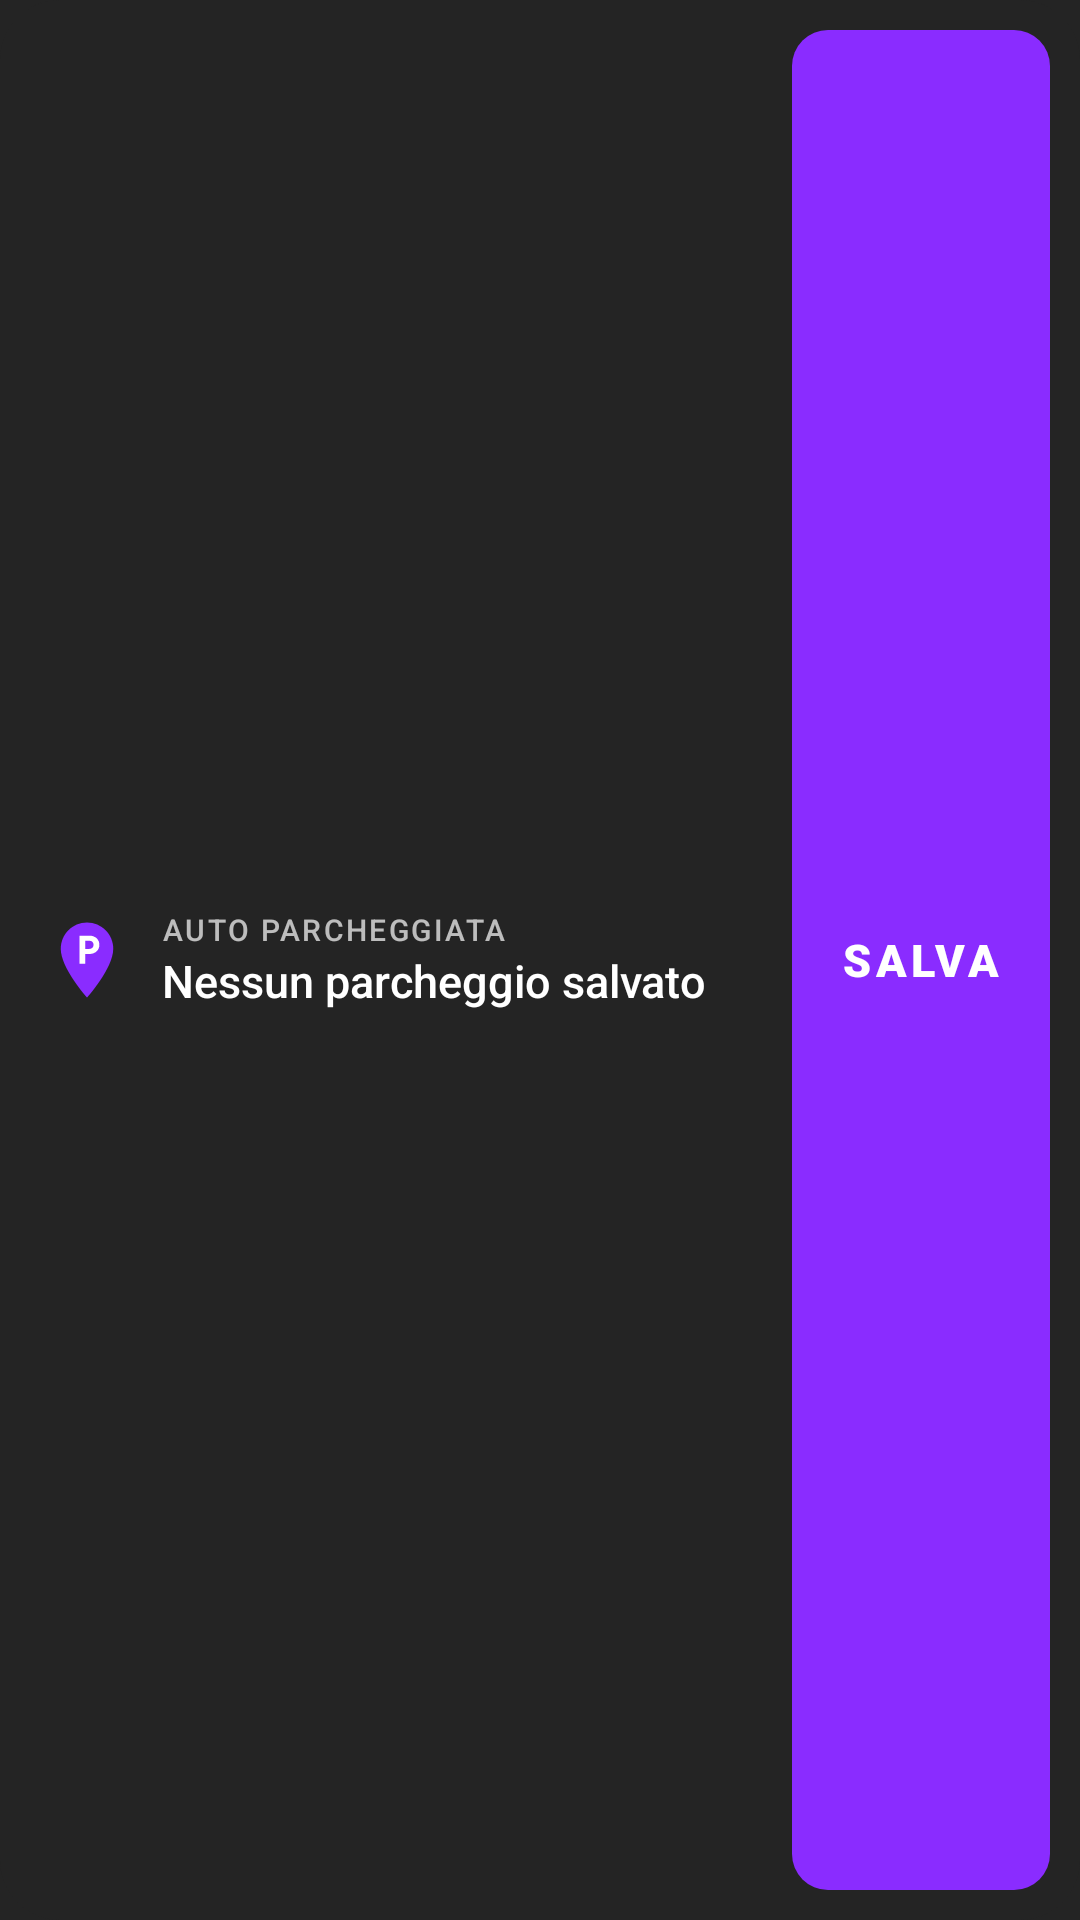

Icons on this 1080*1920 Android screen, each with its box as region(x1, y1, x2, y2):
pin: region(60, 922, 114, 998)
